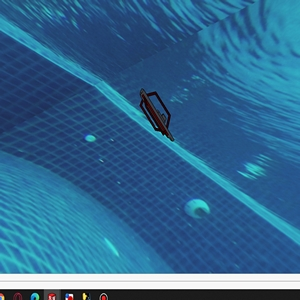submarine: (142, 88, 172, 145)
